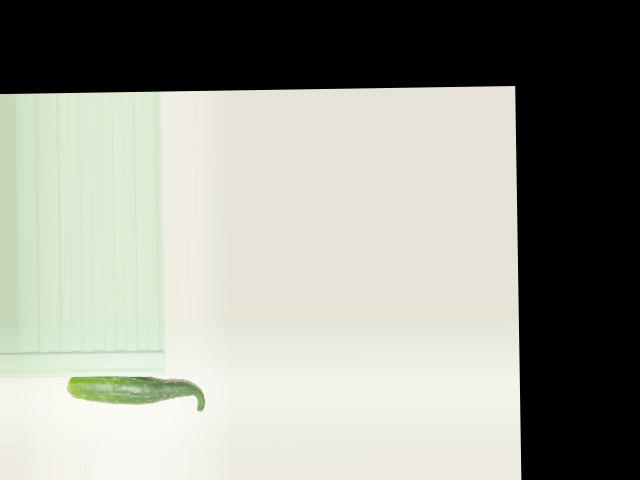cucumber: (67, 374, 205, 413)
